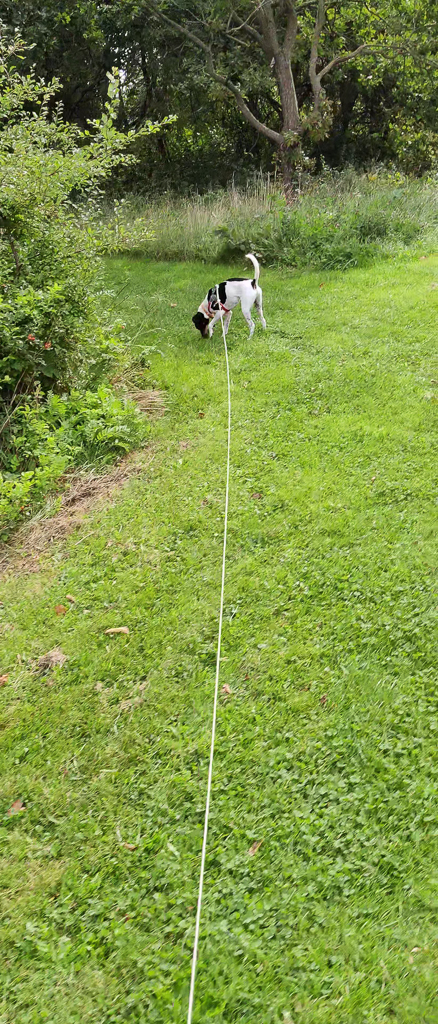Dog: (184, 250, 278, 347)
